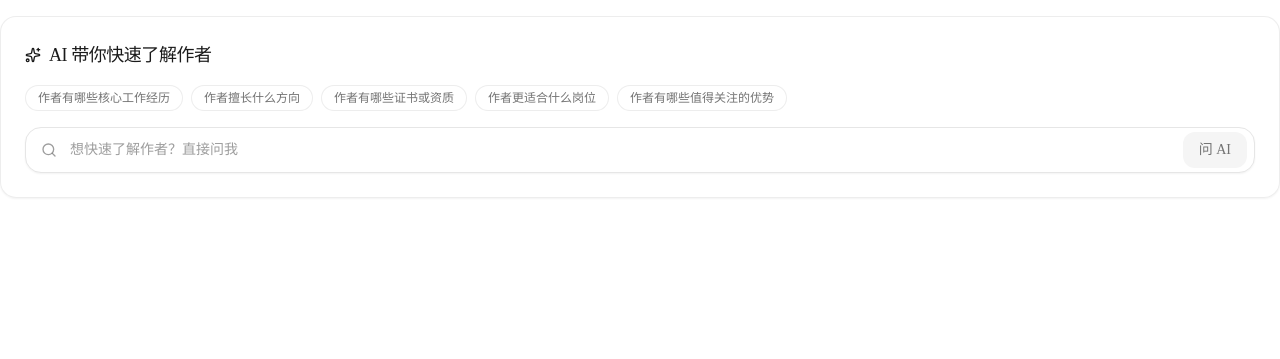
PageAIAssistantProvider › Turnstile 等待超时使用传入值
This screenshot has width=1280, height=359.
Type "作者擅长什么方向" into the field.
click(640, 150); type("作者擅长什么方向")  # box [25, 127, 1255, 173]
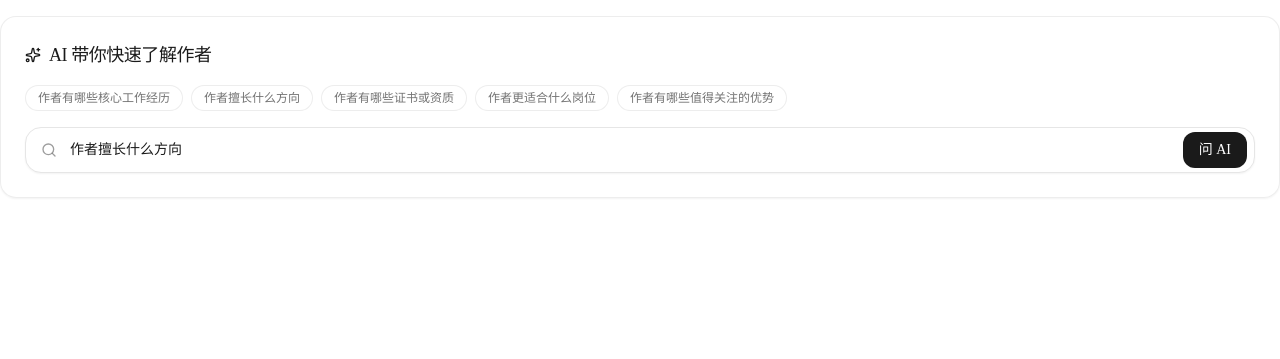
Click the button "问 AI".
click(1215, 150)  # box [1183, 132, 1247, 168]
Wait 4321 ms
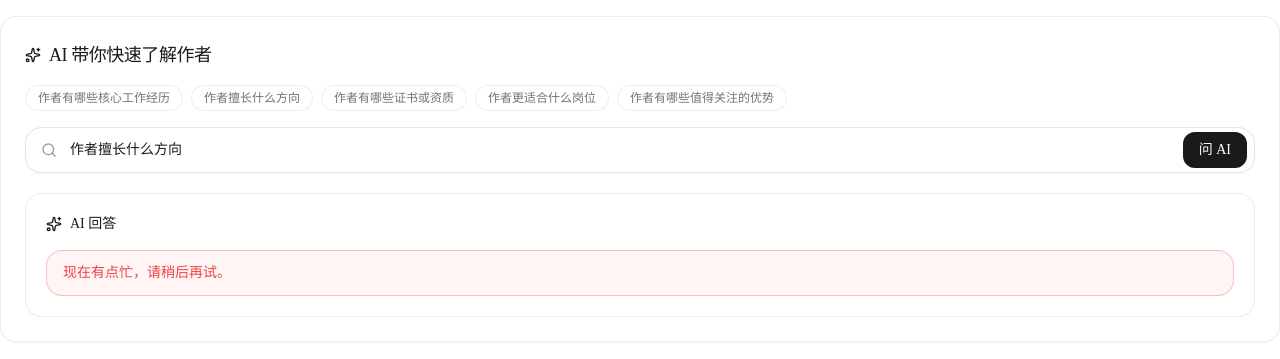
Check: the text "现在有点忙，请稍后再试。" is shown, box [46, 250, 1234, 296]
